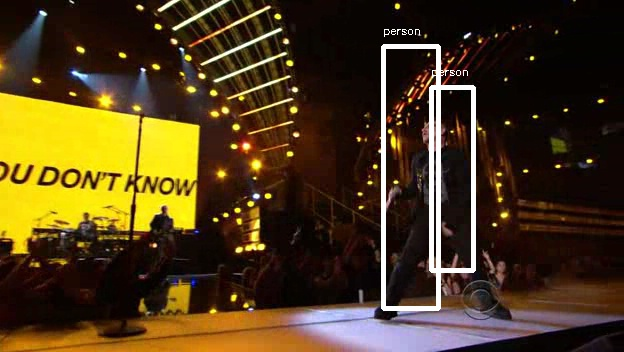person: (404, 119, 470, 227), (401, 119, 467, 227), (407, 119, 473, 227), (404, 116, 470, 224), (404, 122, 470, 230)
target_negative: (472, 45, 567, 315), (82, 293, 422, 323), (151, 129, 245, 235), (467, 262, 602, 318), (477, 165, 609, 175), (576, 322, 595, 349)
